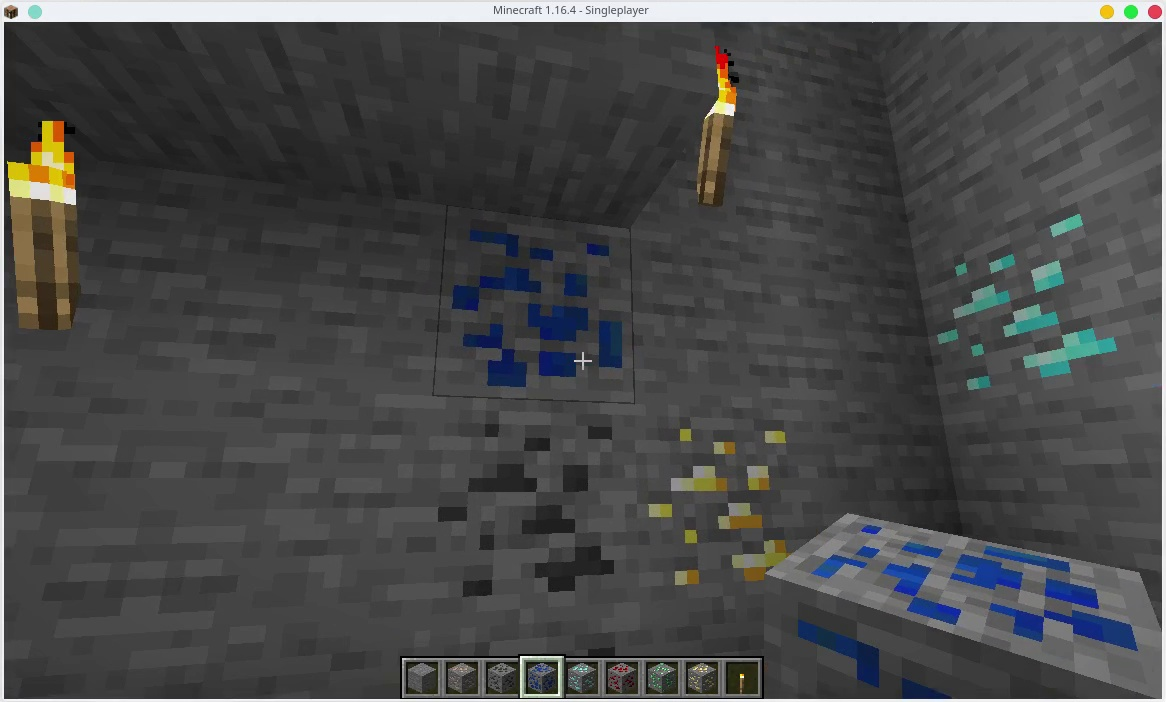gold: (646, 421, 785, 582), (684, 663, 719, 695)
